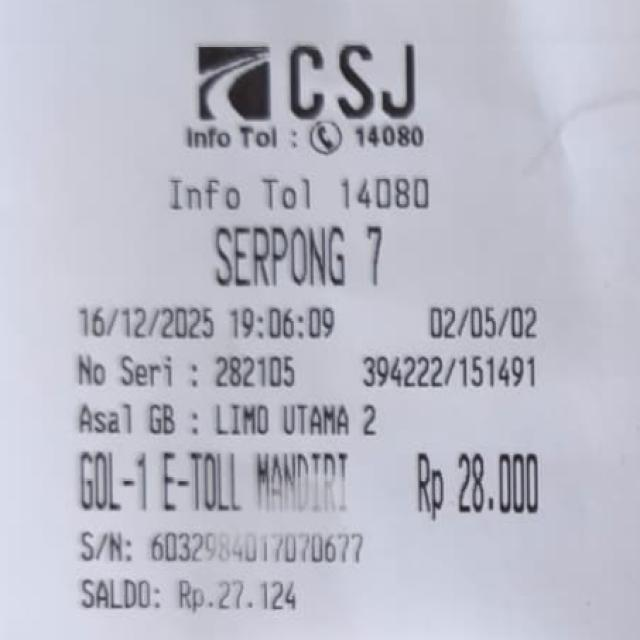date: (78, 304, 344, 344)
store: (184, 33, 458, 153)
total: (408, 446, 552, 523)
